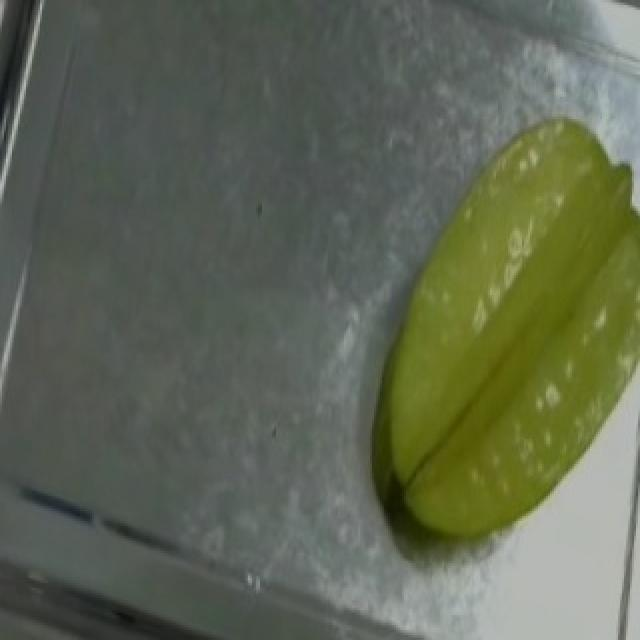fruit: (416, 80, 640, 496)
